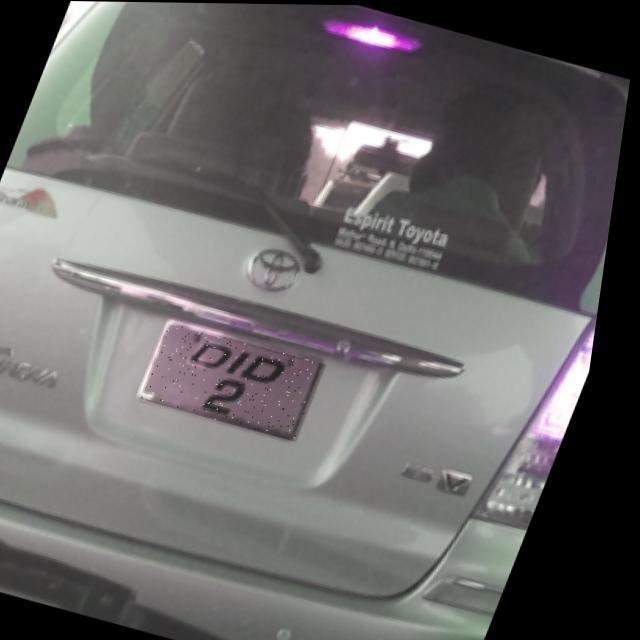license_plate: (146, 321, 341, 441)
